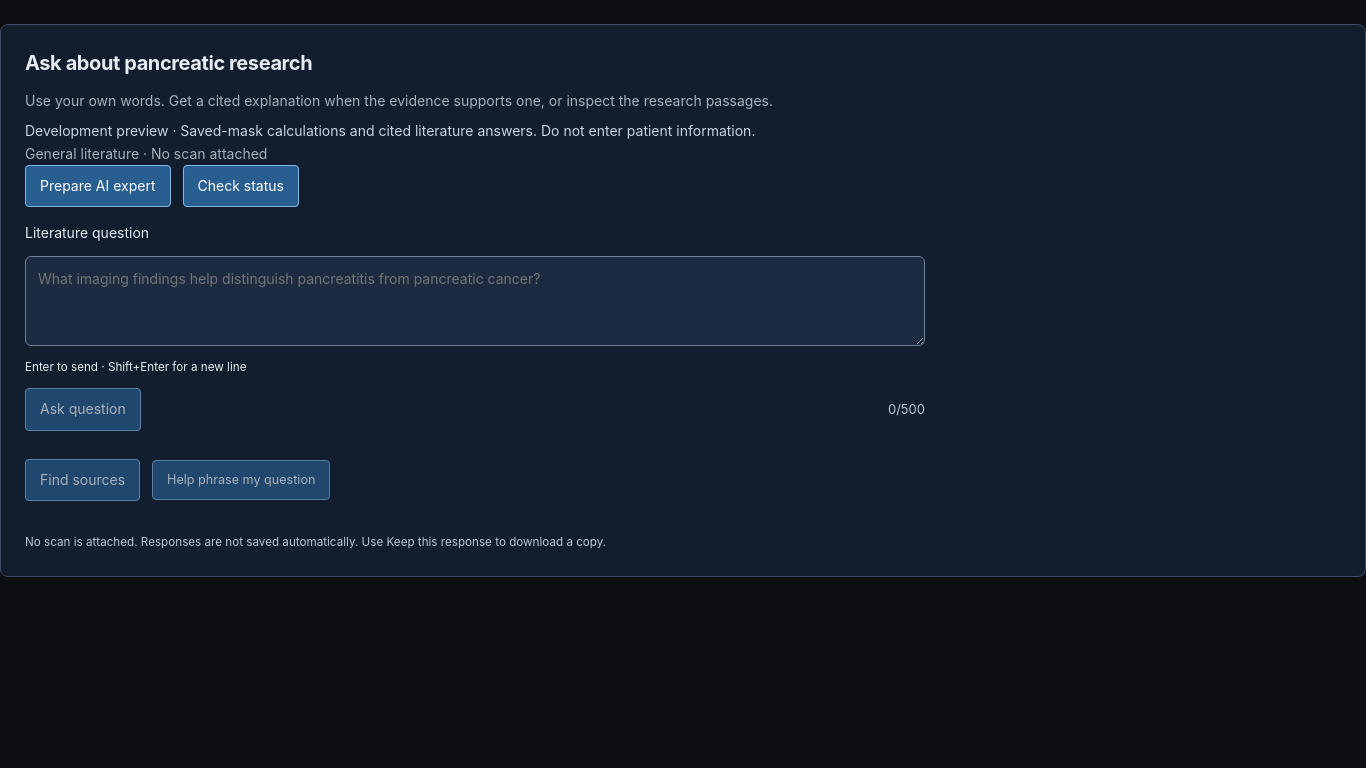
Test: shows an invalid geometry refusal without a numeric answer
This screenshot has width=1366, height=768.
Type "how big is this pancreas?" into the text box labelled "Literature question".
click(475, 301); type("how big is this pancreas?")  # box [25,256,925,346]
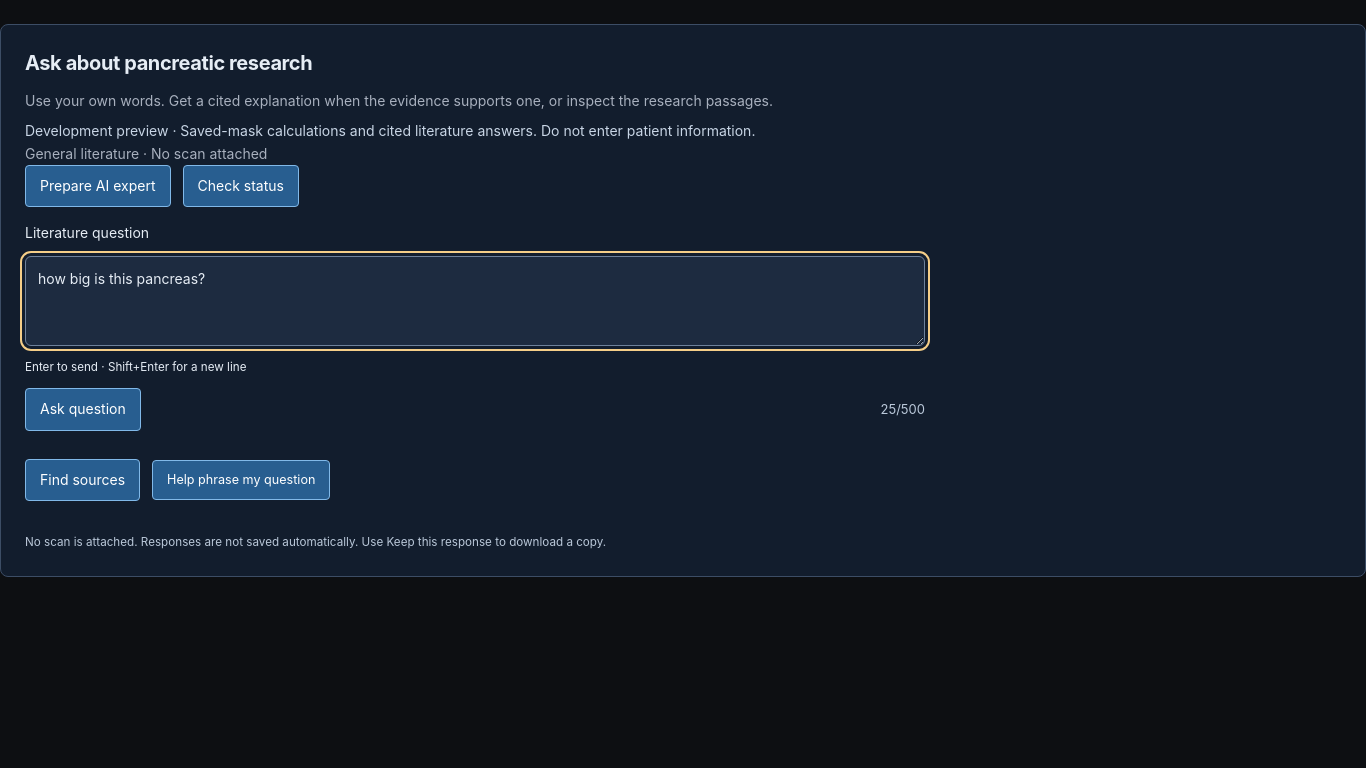
Click the button "Ask question".
click(83, 410)  # box [25,388,141,431]
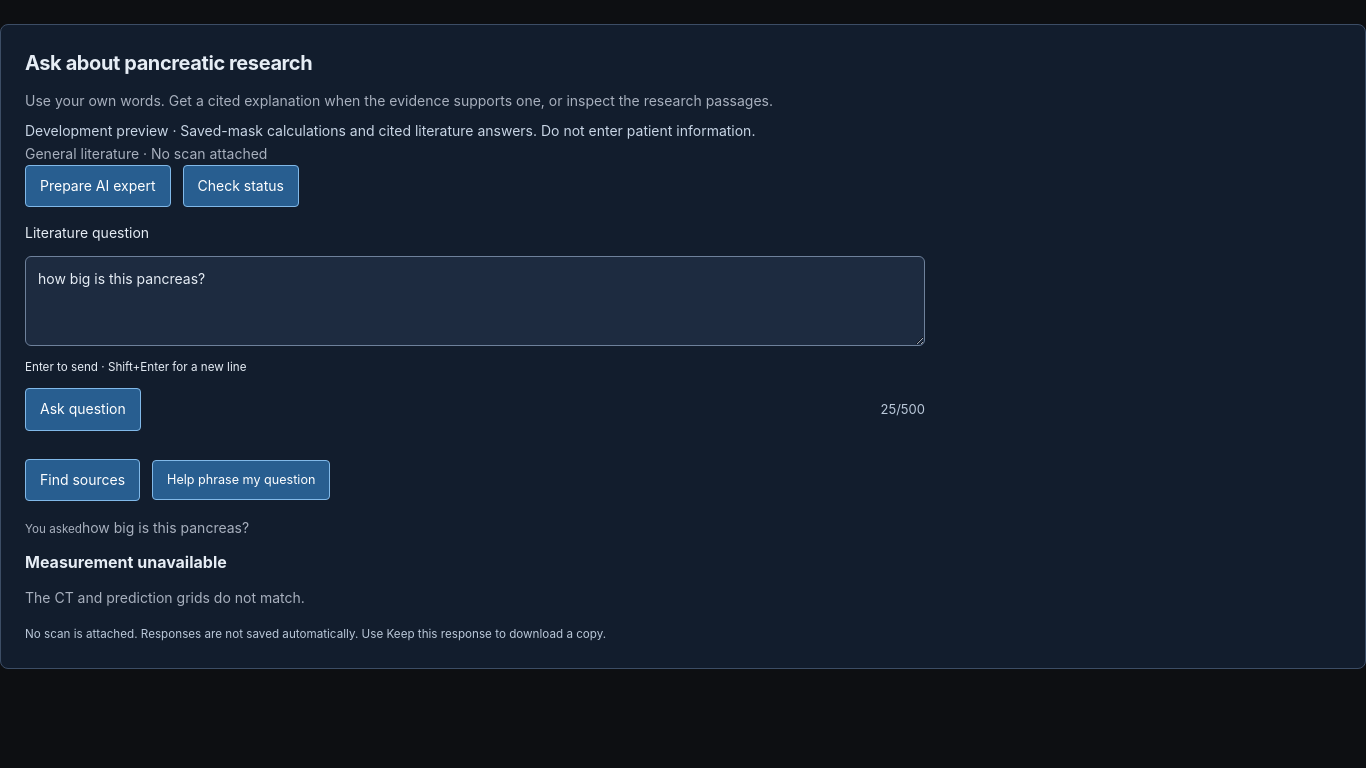
Result: the text "The CT and prediction grids do not match." is shown at [25,589,305,606]
